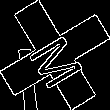M_NE: (22, 22, 88, 88)
